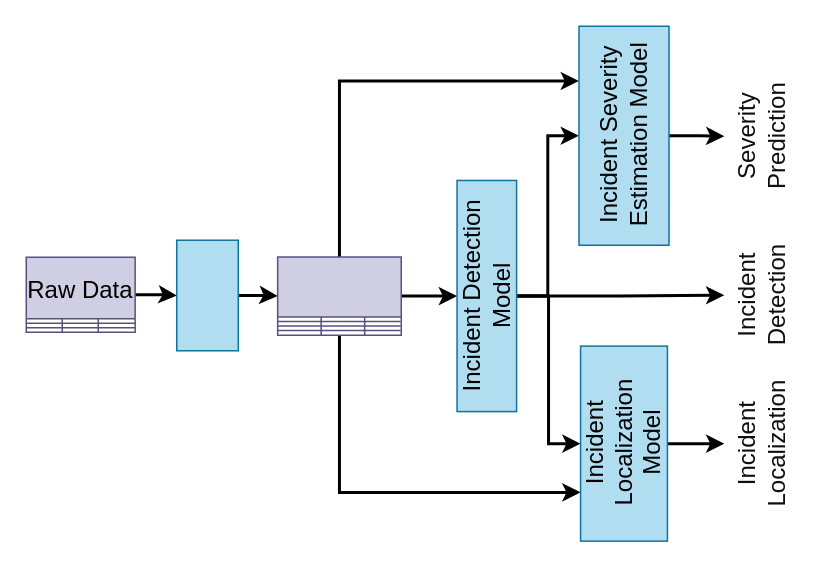
This 827x569 diagram has some shape labels left out. The box of each missing label's shape, as (x1, y1, x2, y2) in pixels:
Feature extraction: (175, 239, 238, 351)
Processed Data: (276, 255, 401, 335)
